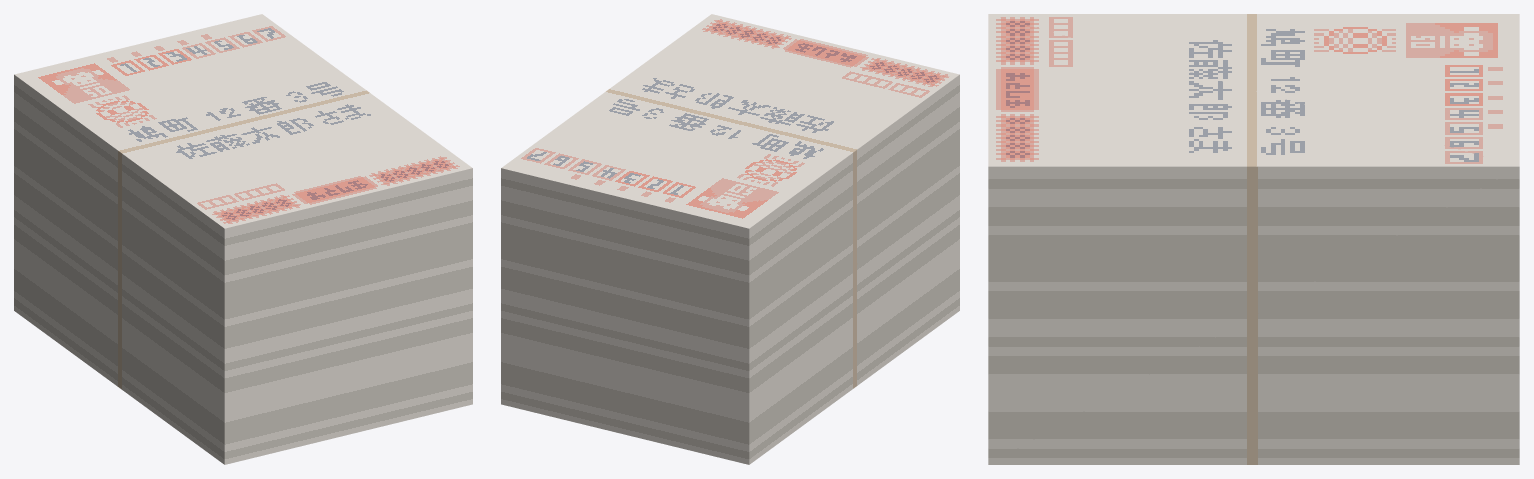
The model's file is 001a_New_Year_s_Cards.glb.
3 renders of one model, left to right at view 1: azimuth 30°, elevation 25°; view 2: azimuth 150°, elevation 25°; view 3: azimuth 270°, elevation 25°, orthographic. The views are drawn at different scales.
Visible parts, largest first — view 1: part_0; view 2: part_0; view 3: part_0.
Boxes of the visible parts, <box> form: part_0: <box>14,14,472,464</box>; part_0: <box>501,14,959,464</box>; part_0: <box>988,14,1519,464</box>.
Size of the model in its own units: 0.1 by 0.091 by 0.147.
1 material, 1 textured.
